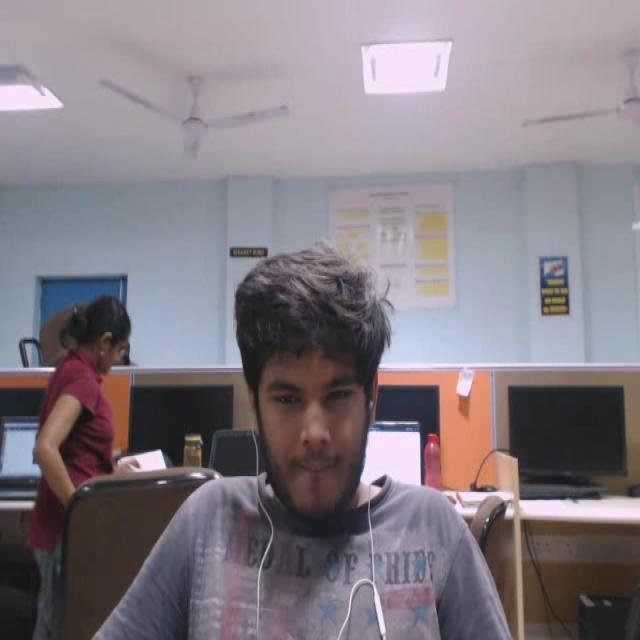Bored: (214, 232, 432, 583)
